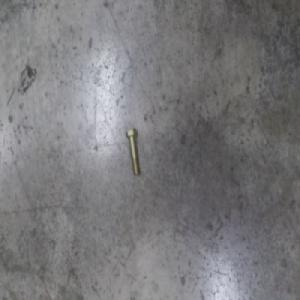Bolt: (125, 126, 139, 175)
